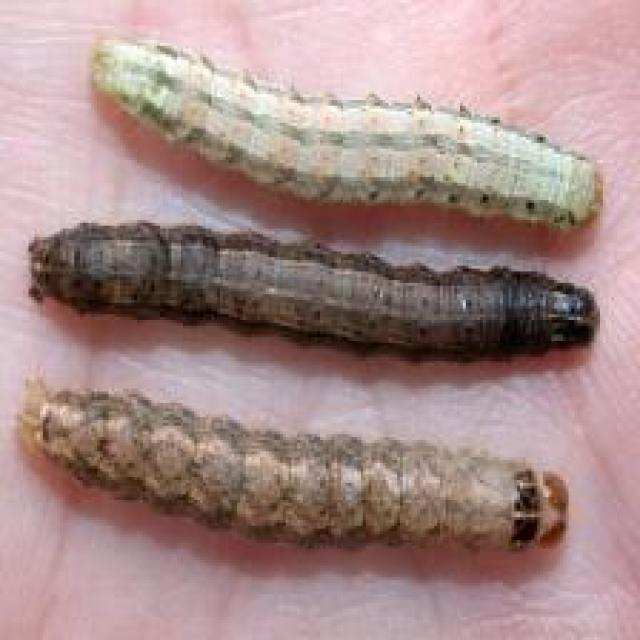Plaga: (16, 385, 613, 577), (87, 20, 624, 228), (28, 217, 603, 382)
